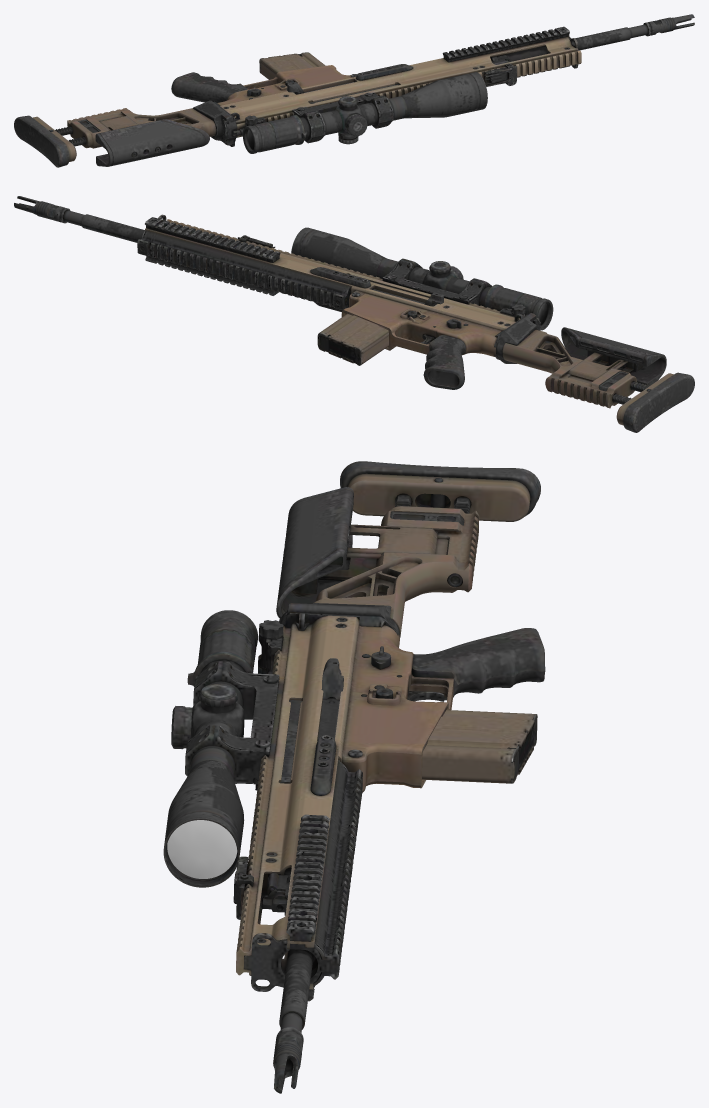
3 views of the same model, one above another, from view 1: azimuth 30°, elevation 25°; view 2: azimuth 150°, elevation 25°; view 3: azimuth 270°, elevation 25° (orthographic). The views are drawn at different scales.
Visible parts, largest first — view 1: w_sg550; view 2: w_sg550; view 3: w_sg550.
Boxes of the visible parts, x1,y1,x2,y2 form: w_sg550: (14,14,694,167); w_sg550: (14,196,694,432); w_sg550: (163,461,545,1093).
Size of the model in its own units: 1.47 by 0.1028 by 0.391.
Materials: 2 (2 with a texture image).
